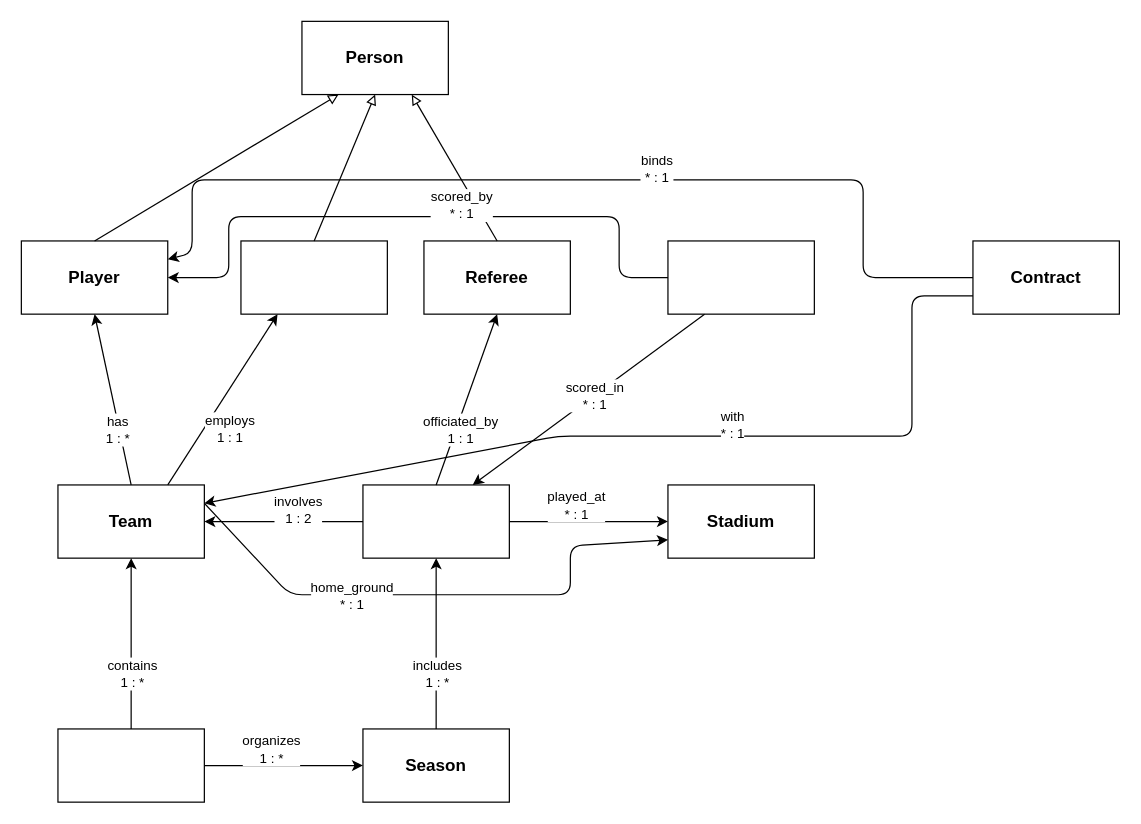
Image size: 1141x824. Some labels were removed from this diagram. Here are the shapes that lost their labels. From the top down, the box of each, then its label:
(240, 240, 387, 314): Coach
(667, 240, 814, 314): Goal
(362, 484, 509, 558): Match
(57, 728, 204, 802): League
